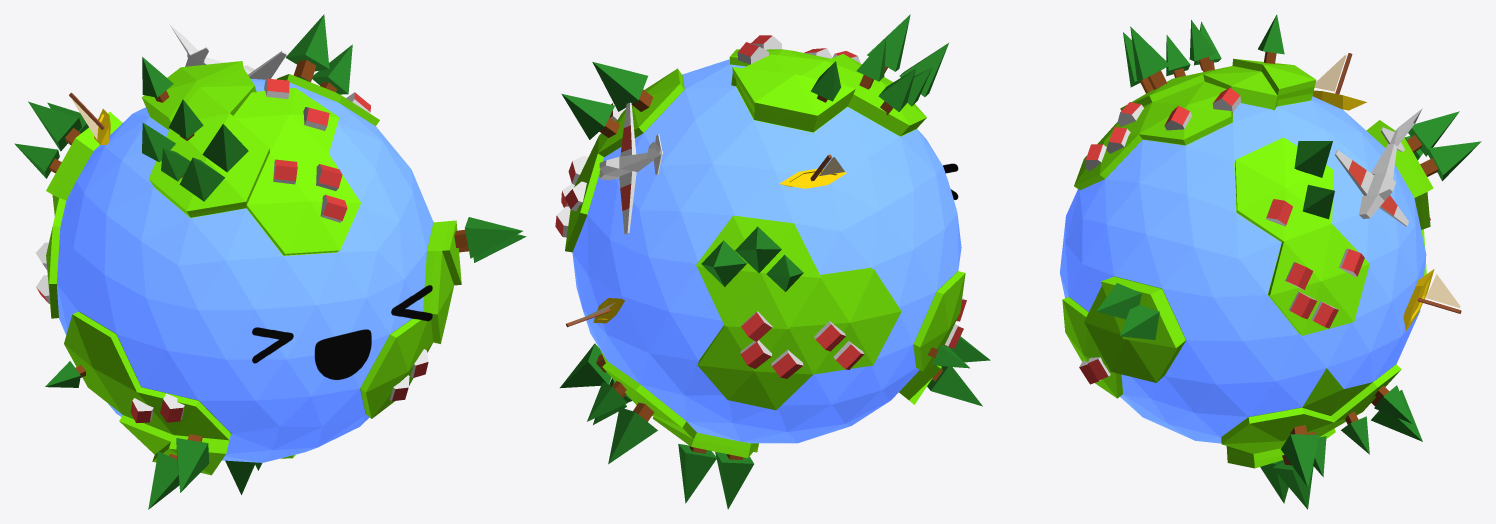
The model's file is happy.glb.
3 renders of one model, left to right at view 1: azimuth 30°, elevation 25°; view 2: azimuth 150°, elevation 25°; view 3: azimuth 270°, elevation 25°, orthographic. The views are drawn at different scales.
Parts seen in each view (by area): view 1: Icosphere, 009, Plane.013, Plane.016, Plane.027, Plane.005, Plane.003, Plane.011, Plane.010, Plane.014, Plane.024, Plane.012 (+7 smaller); view 2: Icosphere, Plane.003, Plane.013, Plane.017, Plane.014, Plane.022, Plane.020, Plane.023, Plane.005, Plane.006, Plane.049, Plane.024 (+13 smaller); view 3: Icosphere, Plane.003, Plane.002, Plane.020, Plane.049, Plane.011, Plane.006, Plane.005, Plane.013, Plane.015, Plane.016, Plane.022 (+15 smaller).
Part boxes in pixels (<box>): Icosphere: <box>46,61,461,475</box>; 009: <box>252,285,432,379</box>; Plane.013: <box>285,14,329,82</box>; Plane.016: <box>454,217,522,258</box>; Plane.027: <box>176,434,209,492</box>; Plane.005: <box>28,101,81,151</box>; Plane.003: <box>169,24,286,79</box>; Plane.011: <box>202,124,248,172</box>; Plane.010: <box>179,157,225,201</box>; Plane.014: <box>312,44,352,94</box>; Plane.024: <box>148,451,179,509</box>; Plane.012: <box>142,57,173,102</box>; Icosphere: <box>565,49,965,457</box>; Plane.003: <box>599,102,662,234</box>; Plane.013: <box>592,62,653,111</box>; Plane.017: <box>608,402,657,464</box>; Plane.014: <box>561,93,620,139</box>; Plane.022: <box>678,444,716,503</box>; Plane.020: <box>560,343,611,388</box>; Plane.023: <box>715,451,753,509</box>; Plane.005: <box>735,226,781,272</box>; Plane.006: <box>701,240,746,286</box>; Plane.049: <box>779,154,846,188</box>; Plane.024: <box>927,366,982,406</box>; Icosphere: <box>1060,58,1433,468</box>; Plane.003: <box>1334,108,1422,226</box>; Plane.002: <box>1403,269,1461,330</box>; Plane.020: <box>1280,425,1319,487</box>; Plane.049: <box>1312,53,1366,110</box>; Plane.011: <box>1130,26,1170,89</box>; Plane.006: <box>1420,141,1481,181</box>; Plane.005: <box>1406,111,1459,156</box>; Plane.013: <box>1294,141,1332,177</box>; Plane.015: <box>1120,305,1159,339</box>; Plane.016: <box>1096,283,1141,319</box>; Plane.022: <box>1272,455,1313,509</box>.
Bounding box in the file's own units: 2.58 × 2.76 × 2.4.
12 materials, 1 textured.
